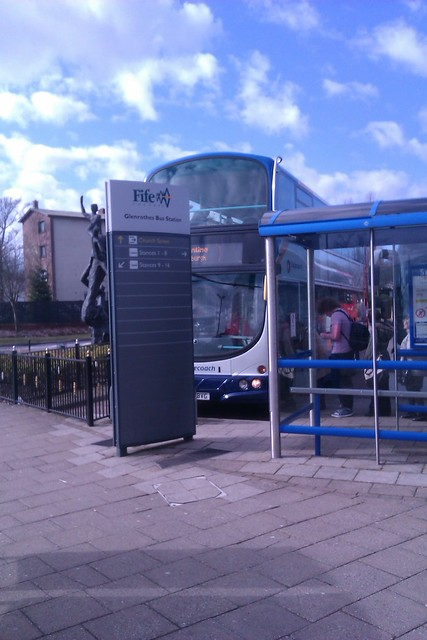bus: (145, 151, 370, 404)
